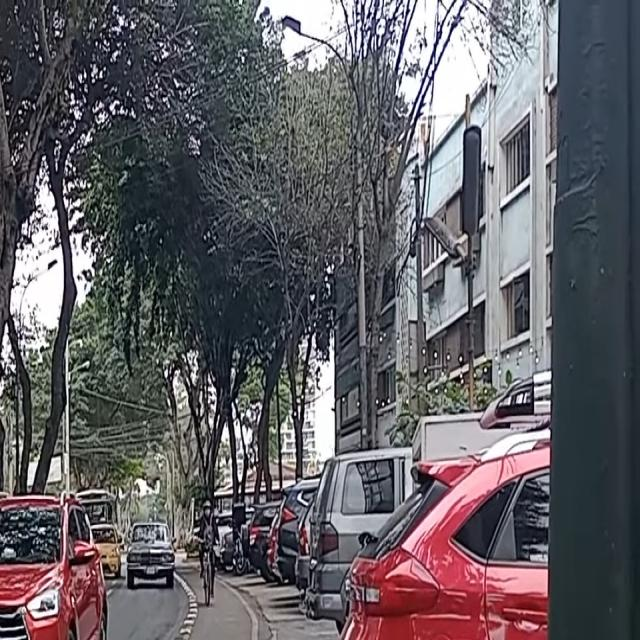bicycle: (197, 536, 219, 606)
car: (0, 490, 108, 640), (126, 522, 178, 592), (89, 524, 122, 577)
